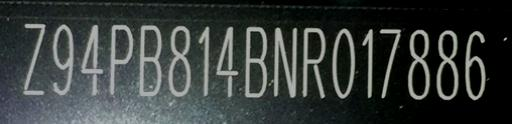letter: (270, 25, 300, 101), (242, 24, 270, 100), (329, 27, 357, 103), (404, 28, 432, 102), (300, 26, 328, 98), (462, 29, 490, 101), (214, 22, 240, 98), (20, 21, 46, 95), (377, 24, 403, 98), (434, 28, 460, 102), (108, 22, 134, 94), (167, 24, 193, 96), (51, 21, 75, 95), (138, 22, 162, 96), (80, 22, 104, 96), (358, 27, 376, 101), (198, 25, 212, 97)
